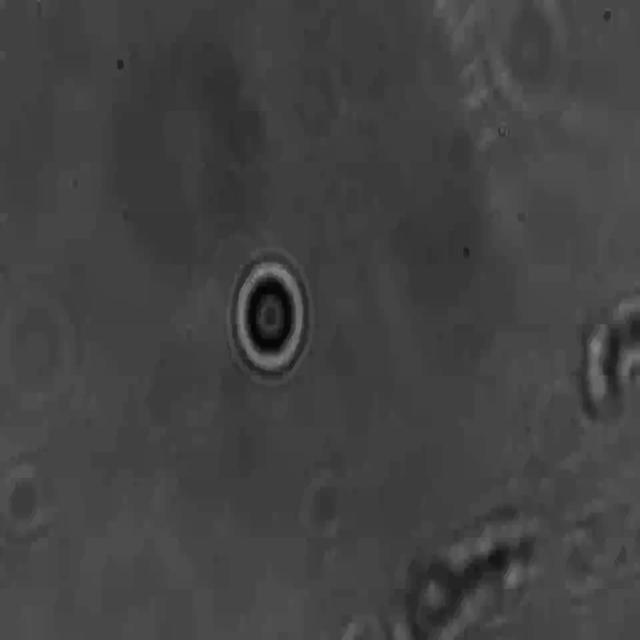LCELL: (229, 251, 315, 389)
